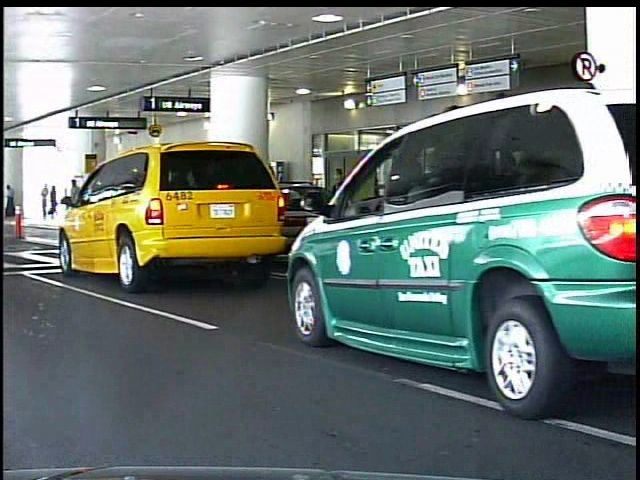person: (324, 165, 354, 277), (65, 176, 87, 232), (53, 182, 65, 222), (46, 181, 56, 221), (7, 183, 16, 211)
